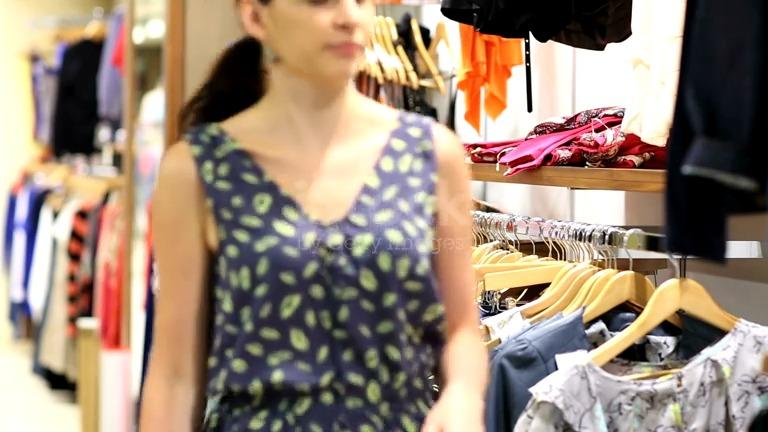Non shoplifting: (134, 0, 529, 432)
